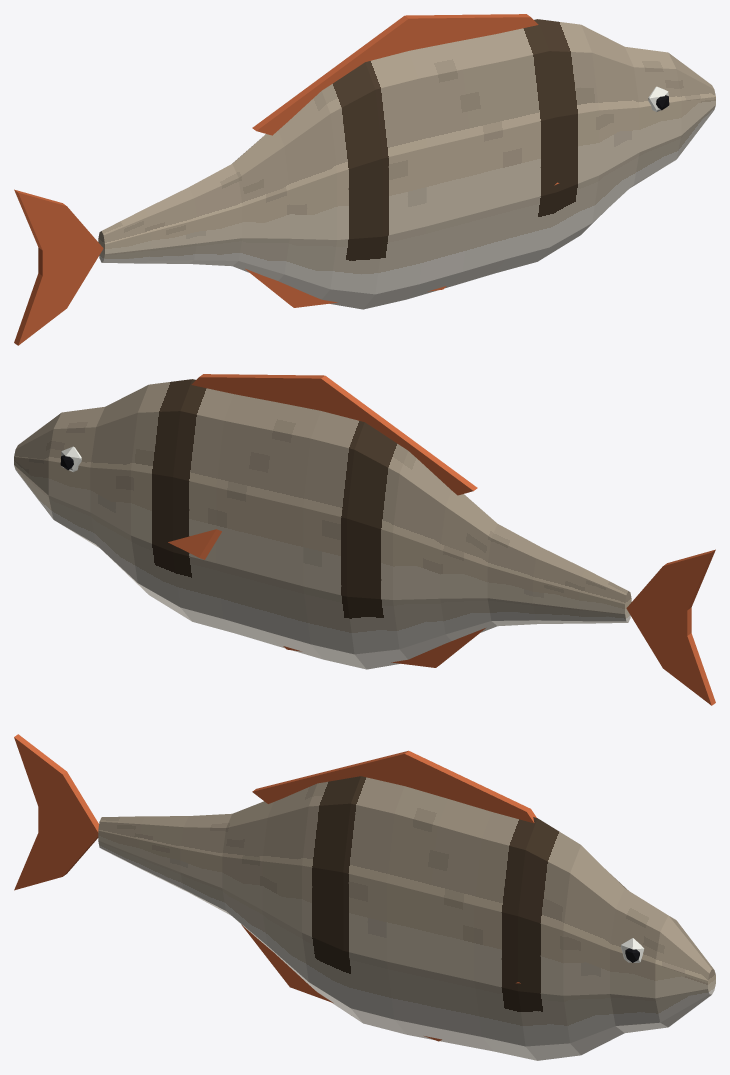
File: morwong.glb
The picture shows the model from 3 angles, top to bottom: view 1: azimuth 30°, elevation 25°; view 2: azimuth 150°, elevation 25°; view 3: azimuth 330°, elevation 25°; orthographic projection.
Parts seen in each view (by area): view 1: fish_morwong; view 2: fish_morwong; view 3: fish_morwong.
Part boxes in pixels (x1=…): fish_morwong: x1=14, y1=14, x2=715, y2=345; fish_morwong: x1=14, y1=374, x2=715, y2=705; fish_morwong: x1=14, y1=734, x2=715, y2=1060.
Bounding box in the file's own units: 1.14 × 0.4423 × 0.1417.
Materials: 4 (1 with a texture image).
